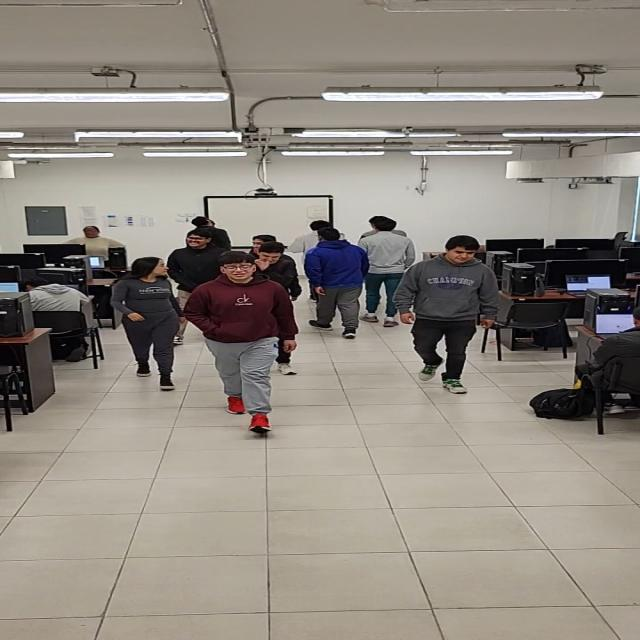Persona: (200, 253, 286, 413), (398, 235, 488, 377), (117, 257, 175, 373), (307, 228, 358, 339), (365, 216, 403, 319), (173, 231, 216, 278), (246, 244, 292, 273), (74, 226, 120, 254)
